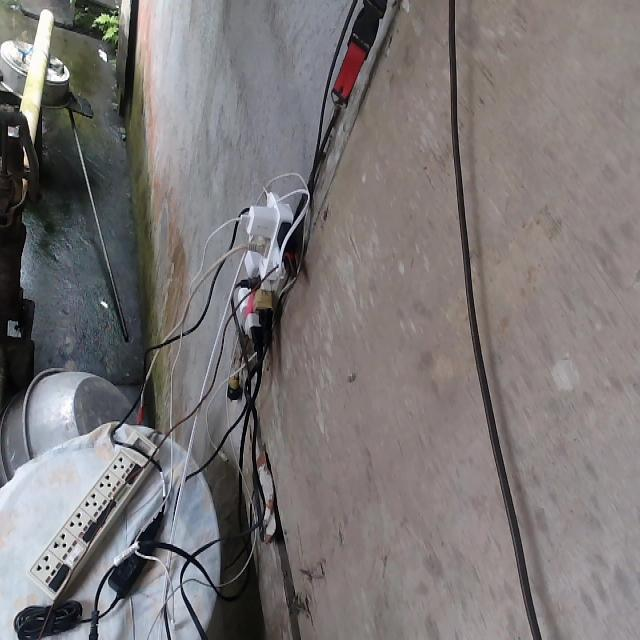-: (233, 188, 300, 353)
